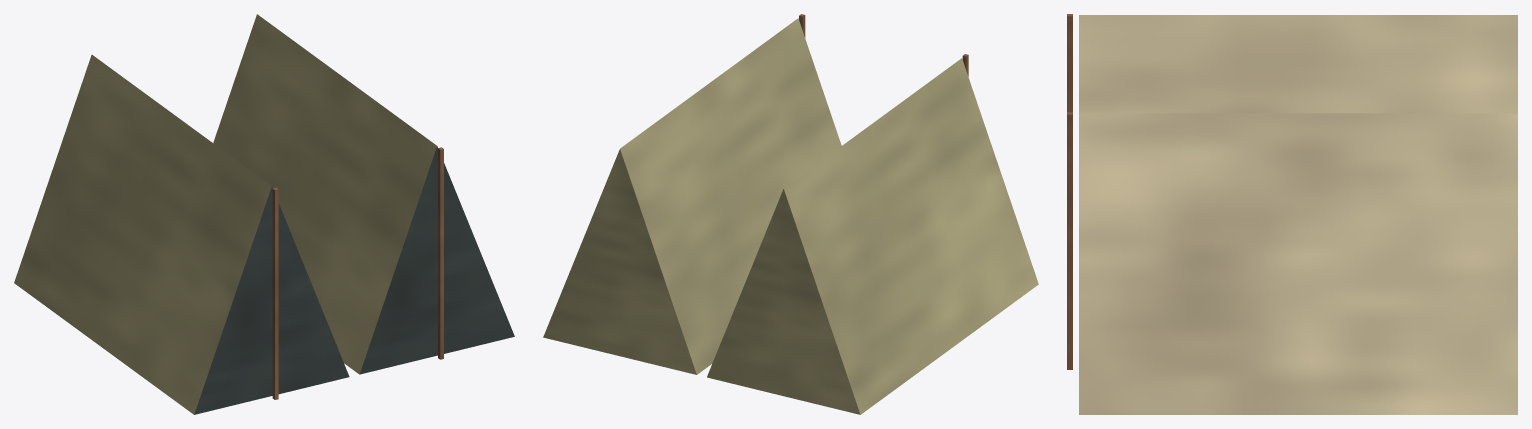
The model's file is tent_camp_2.fbx.
3 views of the same model, side by side, from view 1: azimuth 30°, elevation 25°; view 2: azimuth 150°, elevation 25°; view 3: azimuth 270°, elevation 25° (orthographic). The views are drawn at different scales.
Parts seen in each view (by area): view 1: tent_camp_2; view 2: tent_camp_2; view 3: tent_camp_2.
Part boxes in pixels (x1,y1,x2,y2): tent_camp_2: [14, 14, 514, 414]; tent_camp_2: [543, 14, 1038, 414]; tent_camp_2: [1067, 14, 1517, 414].
Bounding box in the file's own units: 400 × 250 × 400.
Materials: 1 (1 with a texture image).
